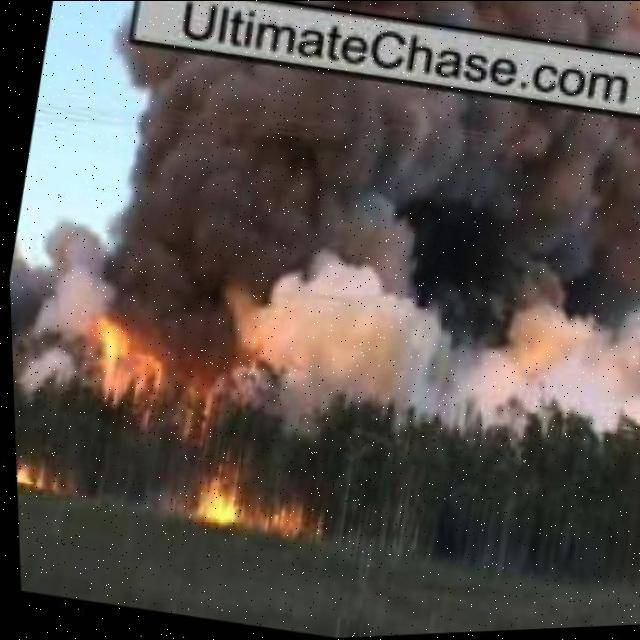fire: (189, 449, 319, 548), (69, 310, 176, 413), (12, 448, 74, 494)
